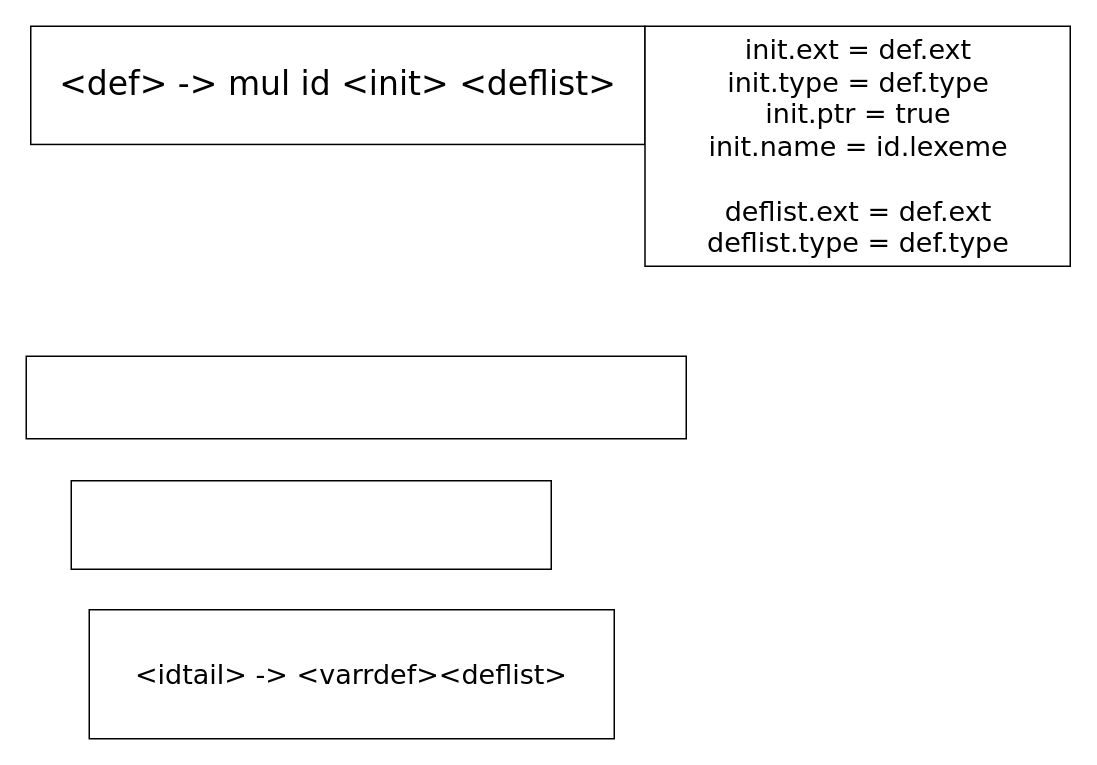
The diagram is 1097 pixels wide and 765 high, and some of its shapes have lost their labels. Each missing label, with the centre of its shape:
"<def> -> id <idtail>" belongs at [310,524].
"<idtail> -> lparen <para> rparen <funtail>" belongs at [355,397].
